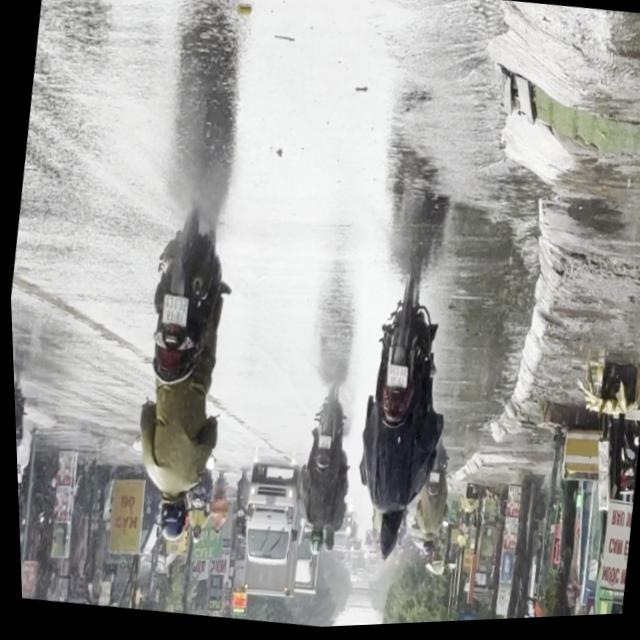helmet: (148, 493, 187, 548), (369, 514, 399, 565), (302, 532, 320, 561)
licenseplate: (109, 214, 248, 554), (335, 279, 459, 573), (285, 386, 359, 565), (11, 366, 36, 533)
nohelmet: (157, 297, 186, 329), (382, 369, 405, 395), (314, 439, 328, 453)
